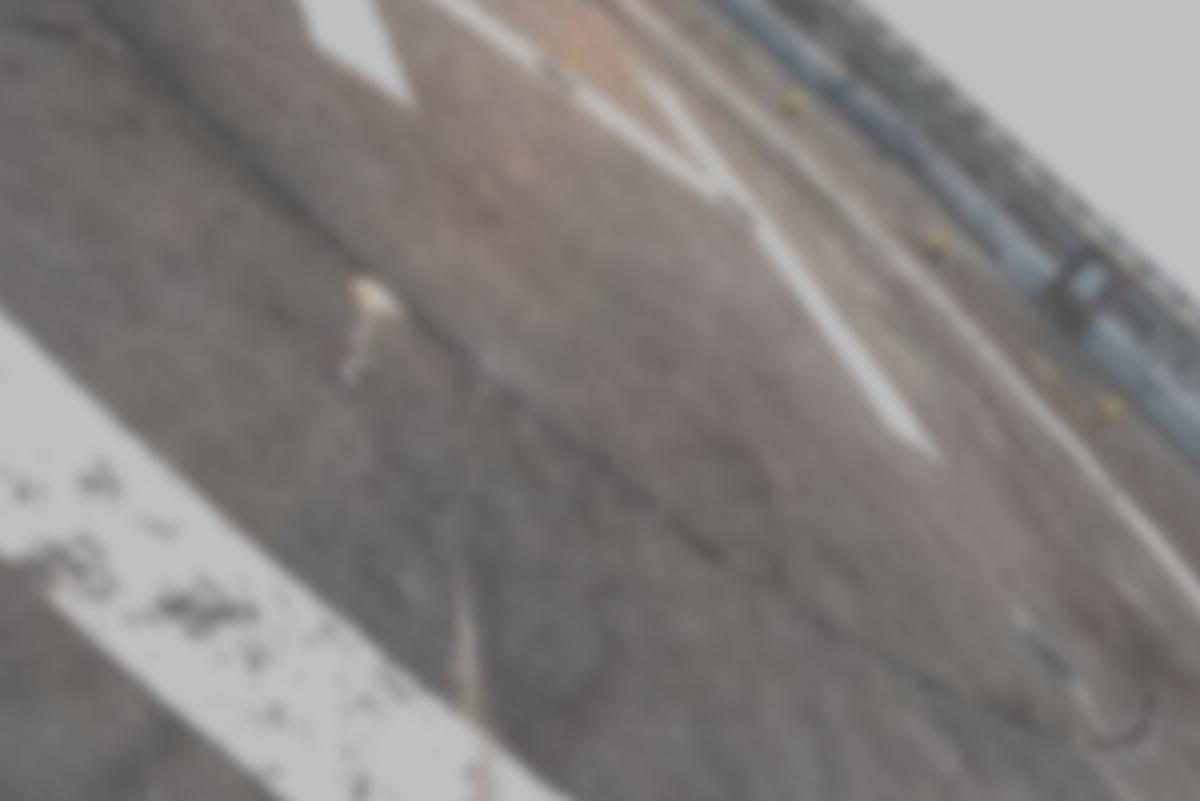Apron: (5, 2, 1200, 801)
